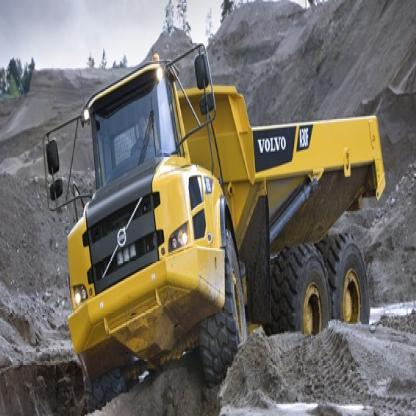dump_truck: (41, 37, 387, 388)
